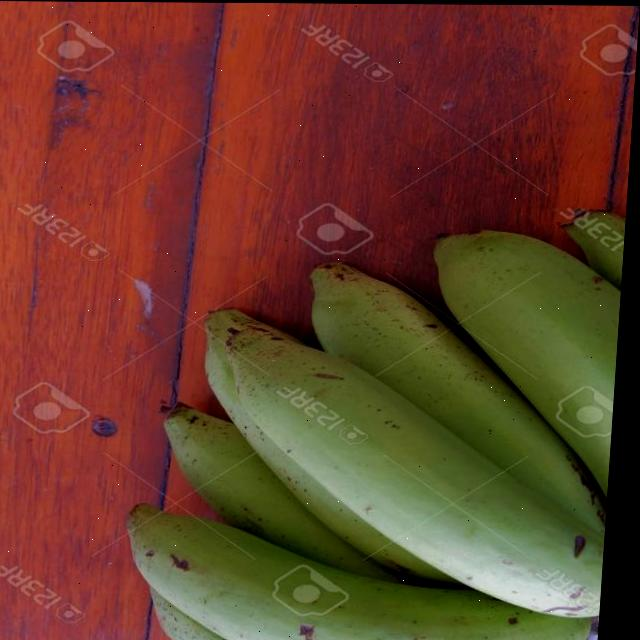banana: (106, 195, 627, 640)
